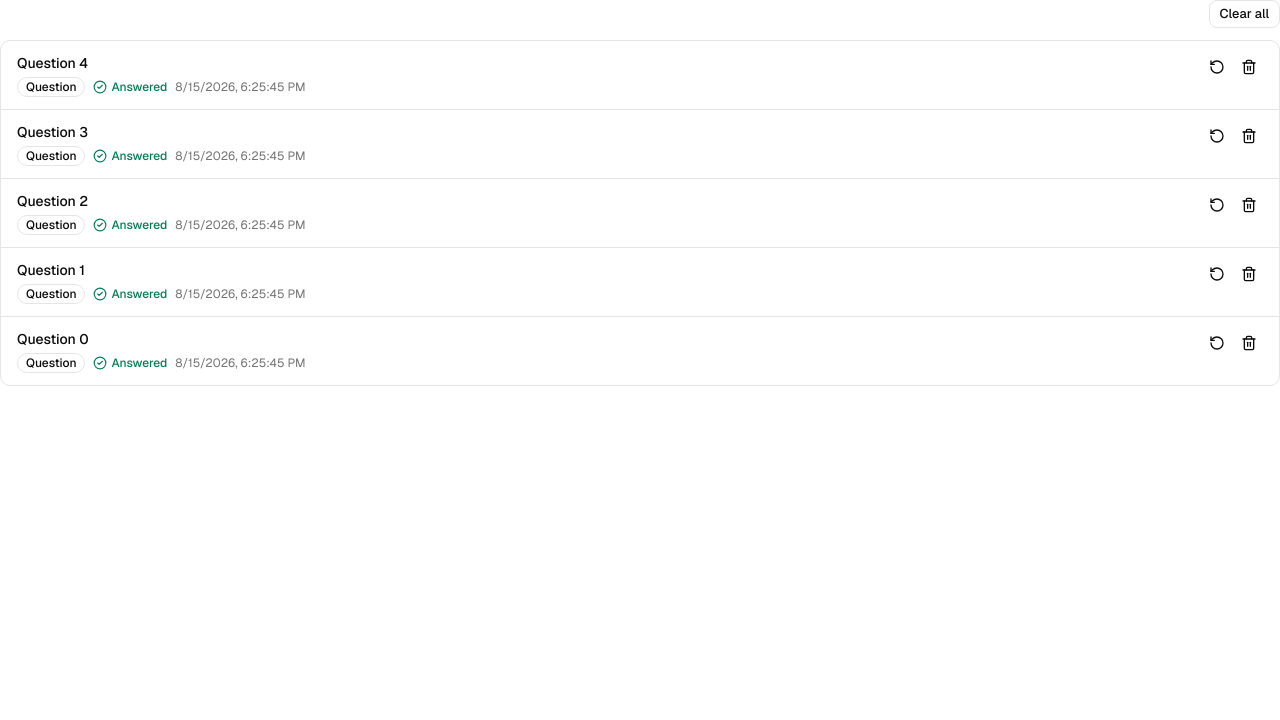
Test case: HistoryList component › clear all › dialog shows entry count
Expected: the text "Question 0" is shown, [17, 330, 89, 348]
Step 1. Click the button "Clear all" → (1244, 14), box [1209, 0, 1279, 28]
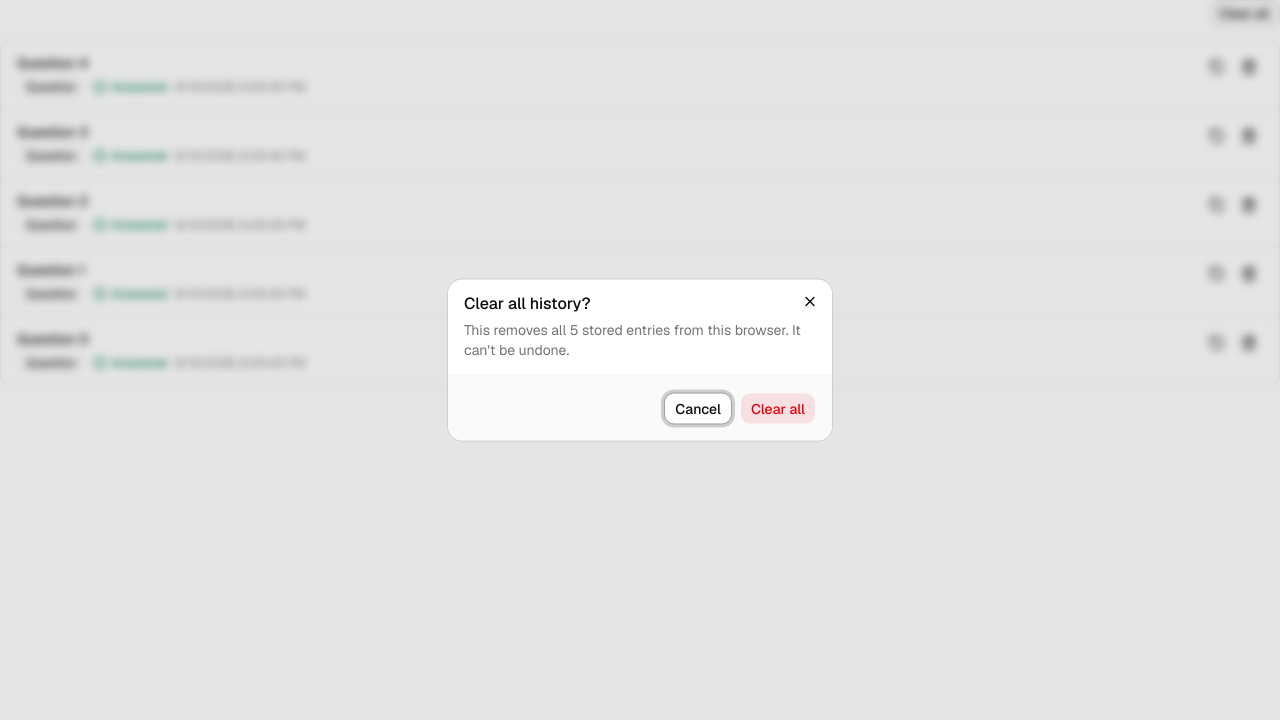
Expected: the text "all 5 stored entries" is shown, [464, 320, 816, 360]
